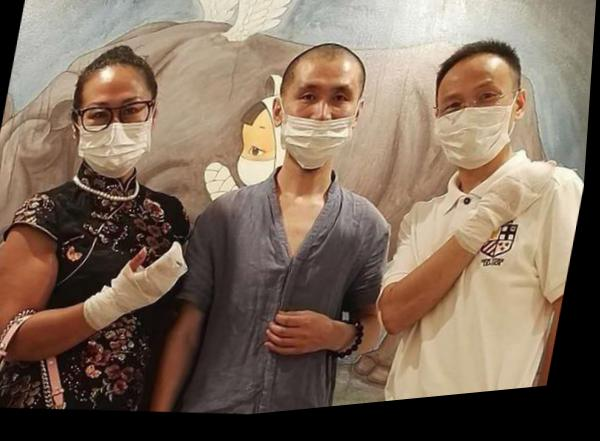OK: (429, 82, 526, 181), (72, 92, 153, 174)
WRONG: (272, 79, 366, 176)
